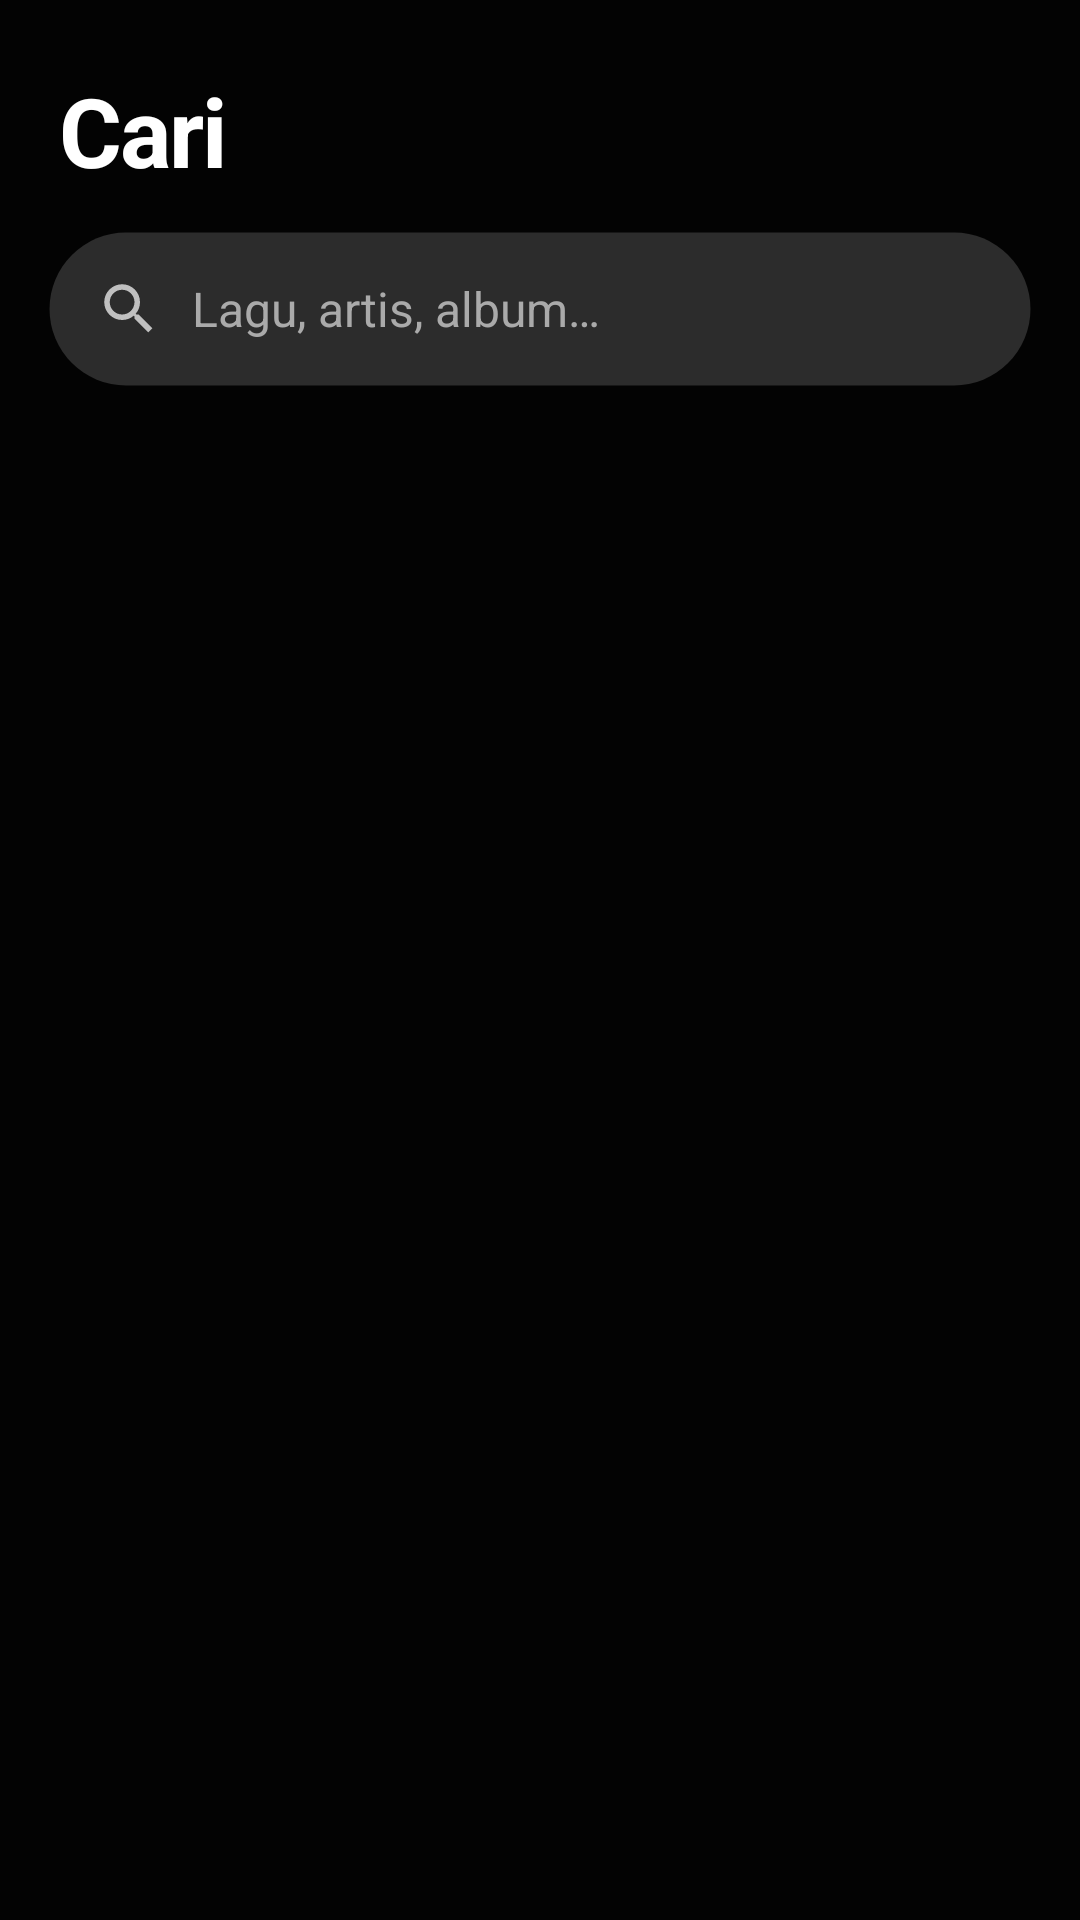

Where icons sit on this 1080w x 1920h app screen, as box(x1, y1, x2, y2):
search: box(104, 284, 152, 332)
